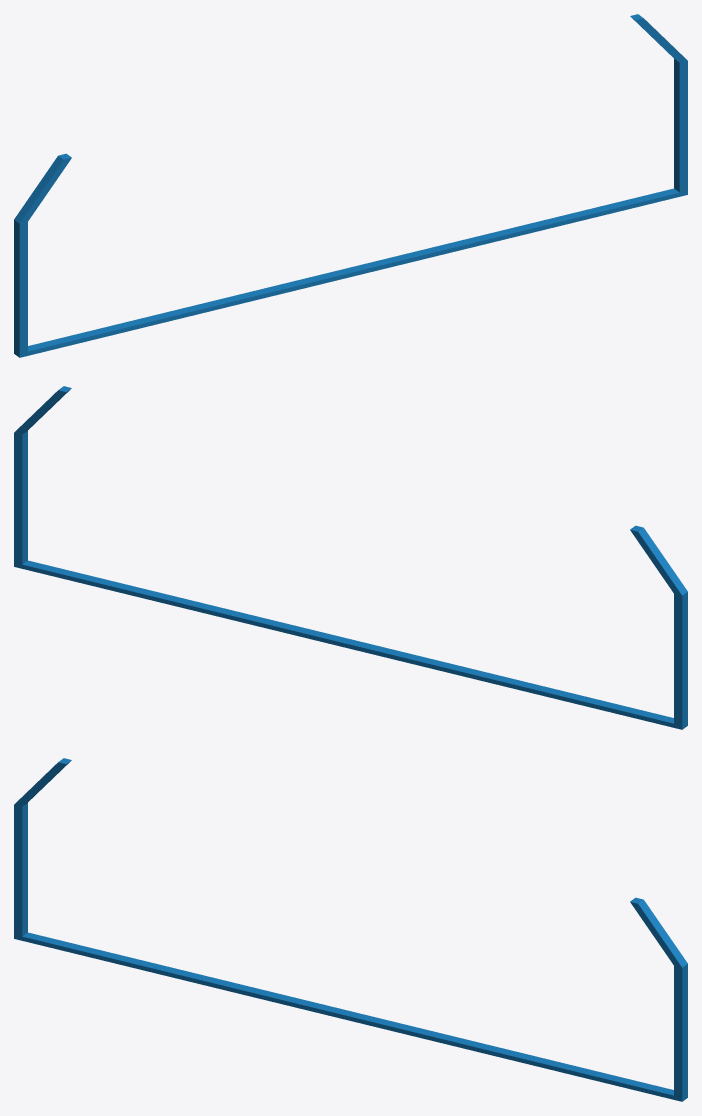
The model's file is gate.fbx.
3 views of the same model, one above another, from view 1: azimuth 30°, elevation 25°; view 2: azimuth 150°, elevation 25°; view 3: azimuth 330°, elevation 25° (orthographic).
Visible parts, largest first — view 1: Cube; view 2: Cube; view 3: Cube.
Boxes of the visible parts, <box> form: Cube: <box>14,14,687,357</box>; Cube: <box>14,386,687,729</box>; Cube: <box>14,758,687,1101</box>.
Bounding box in the file's own units: 26.1 × 6.99 × 0.3858.
Materials: 1 (1 with a texture image).
